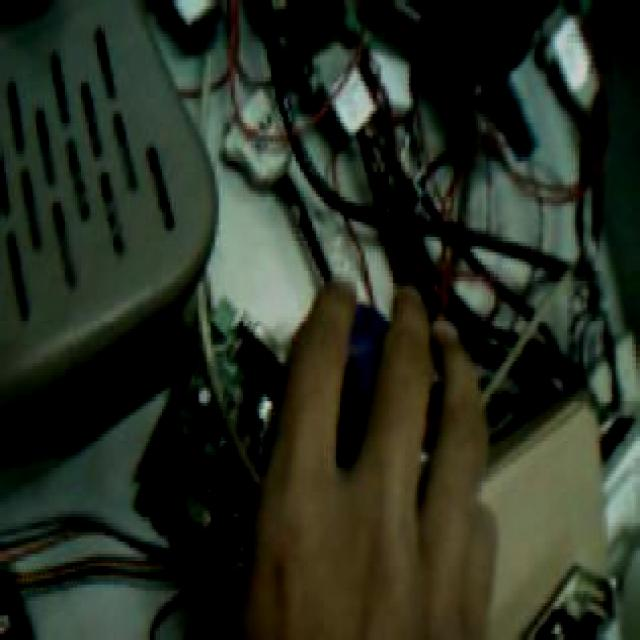BallPurple: (300, 298, 406, 462)
